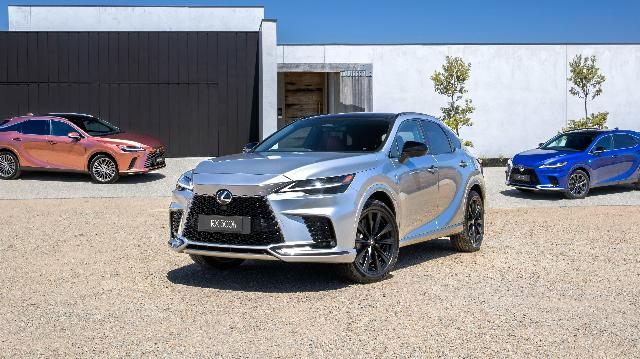lexus: (168, 113, 486, 282)
